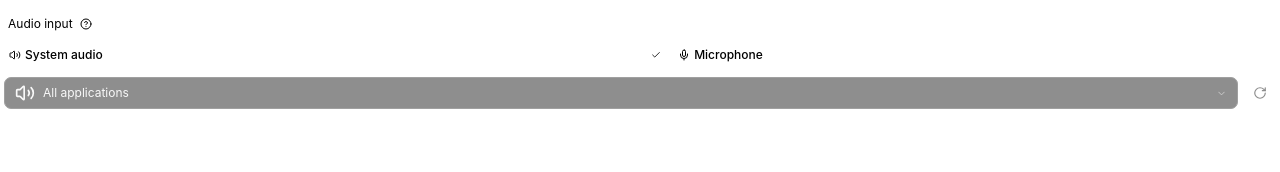
Test: explains unavailable application failures from an input toggle
Click the switch labelled "Microphone". click: (728, 54)
box: [673,39,1276,71]
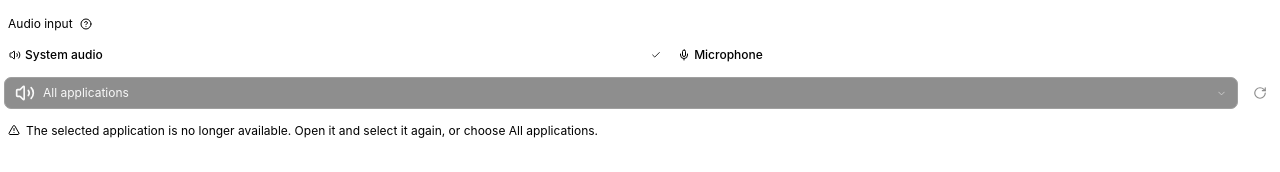
Expected: the message shows "The selected application is no longer available. Open it and select it again, or choose All applications.", [26,123,598,138]
